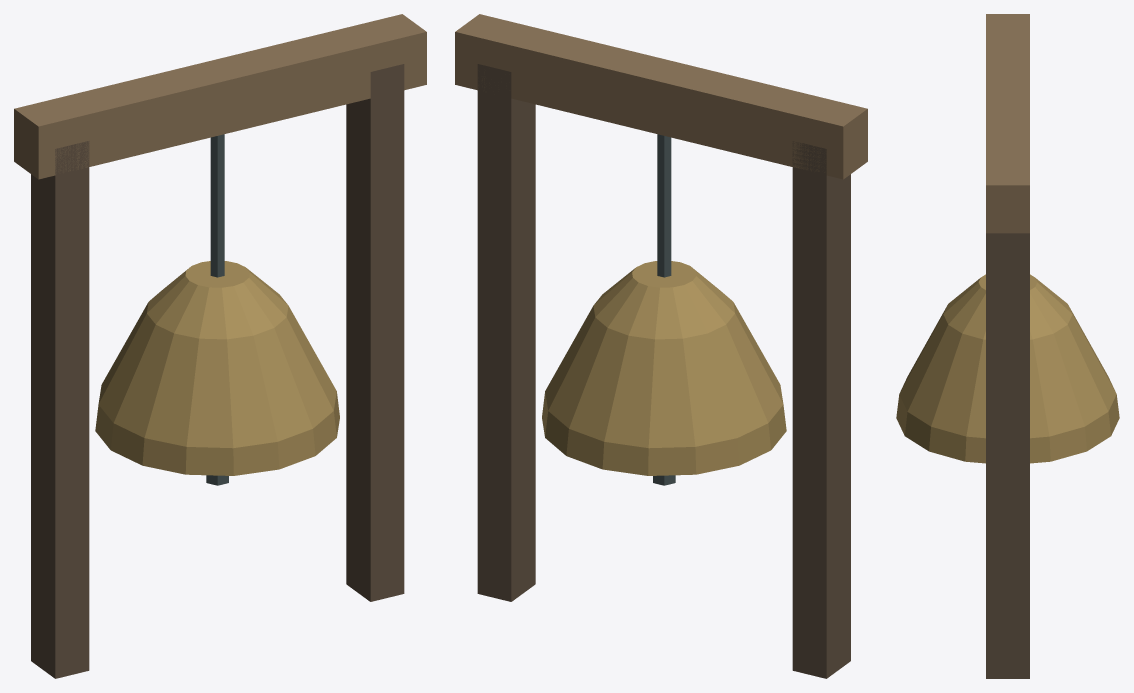
The model's file is SW_Bell_BrokenFrame.fbx.
3 renders of one model, left to right at view 1: azimuth 30°, elevation 25°; view 2: azimuth 150°, elevation 25°; view 3: azimuth 270°, elevation 25°, orthographic. The views are drawn at different scales.
Visible parts, largest first — view 1: SW_Bell_BrokenFrame; view 2: SW_Bell_BrokenFrame; view 3: SW_Bell_BrokenFrame.
Part boxes in pixels (bbox=[...]): SW_Bell_BrokenFrame: bbox=[14, 14, 426, 678]; SW_Bell_BrokenFrame: bbox=[455, 14, 867, 678]; SW_Bell_BrokenFrame: bbox=[896, 14, 1119, 678].
Bounding box in the file's own units: 1.38 × 1.89 × 0.76.
